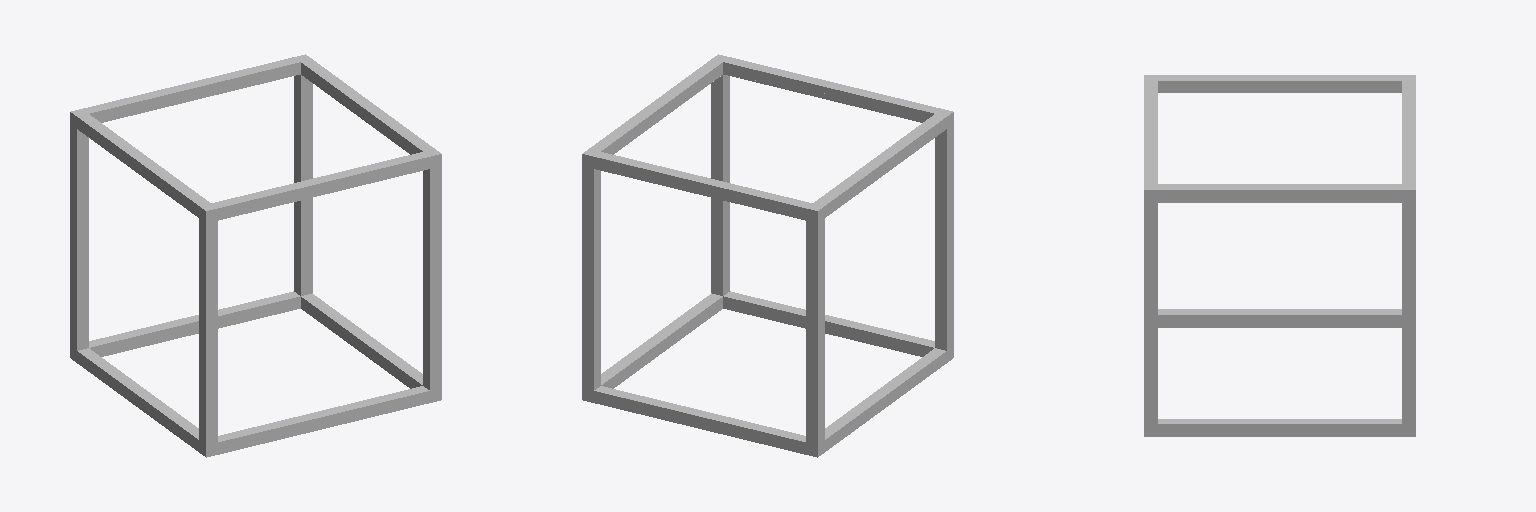
Rendered from Selector.obj.
The picture shows the model from 3 angles: view 1: azimuth 30°, elevation 25°; view 2: azimuth 150°, elevation 25°; view 3: azimuth 270°, elevation 25°; orthographic projection.
Parts seen in each view (by area): view 1: Object.1; view 2: Object.1; view 3: Object.1.
Part boxes in pixels (x1,y1,x2,y2): Object.1: (70, 54, 441, 457); Object.1: (582, 54, 953, 457); Object.1: (1144, 75, 1415, 436).
Bounding box in the file's own units: 0.9996 × 0.9996 × 0.9996.